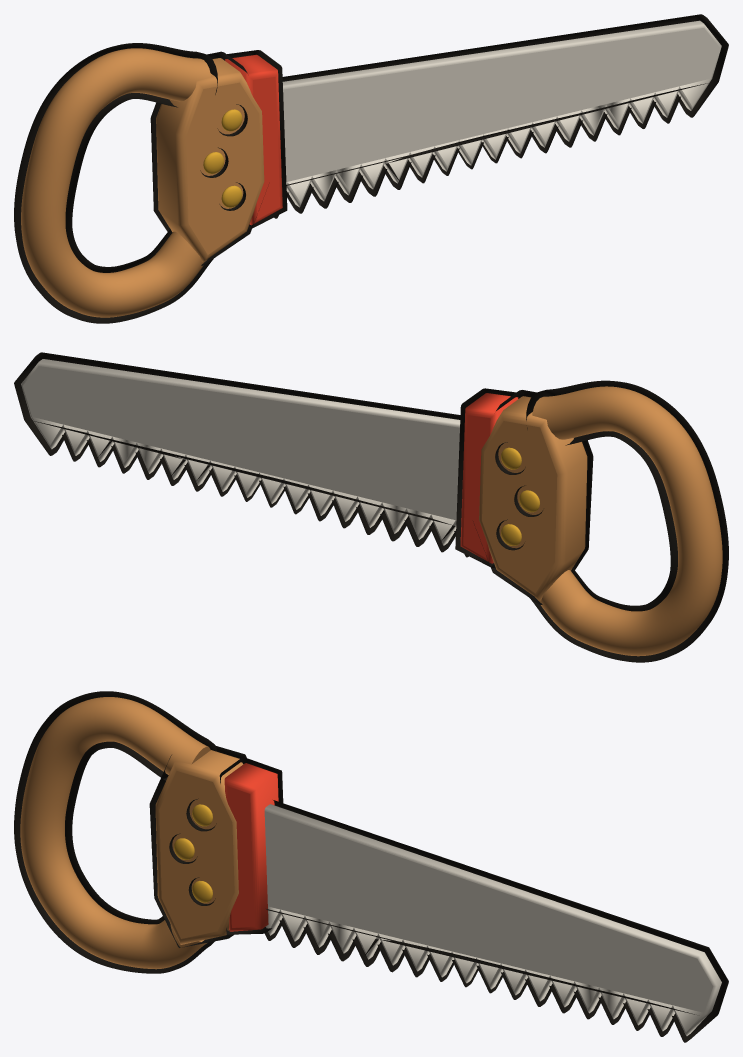
File: saw.glb
3 renders of one model, top to bottom at view 1: azimuth 30°, elevation 25°; view 2: azimuth 150°, elevation 25°; view 3: azimuth 330°, elevation 25°, orthographic.
Visible parts, largest first — view 1: Saw, Saw_outline; view 2: Saw, Saw_outline; view 3: Saw, Saw_outline.
Part boxes in pixels (left/top/right/bottom): Saw: left=21, top=20, right=721, bottom=317; Saw_outline: left=14, top=14, right=728, bottom=323; Saw: left=21, top=359, right=722, bottom=656; Saw_outline: left=14, top=352, right=728, bottom=662; Saw: left=20, top=697, right=721, bottom=1035; Saw_outline: left=14, top=691, right=728, bottom=1042.
Size of the model in its own units: 3.11 by 1.14 by 0.2991.
